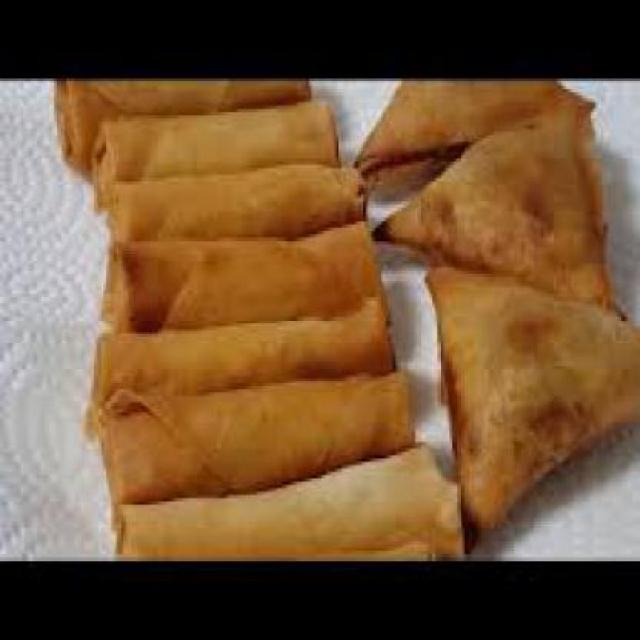samosa: (358, 78, 638, 544)
spring rolls: (43, 76, 454, 555)
